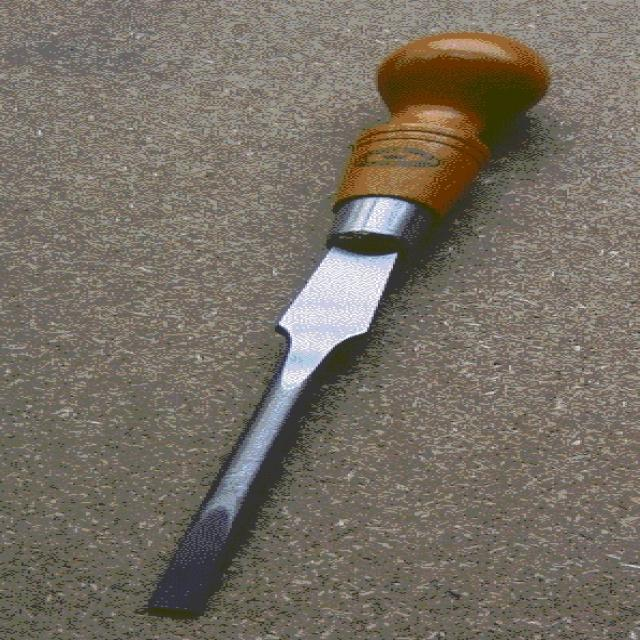screwdriver: (112, 27, 572, 620)
